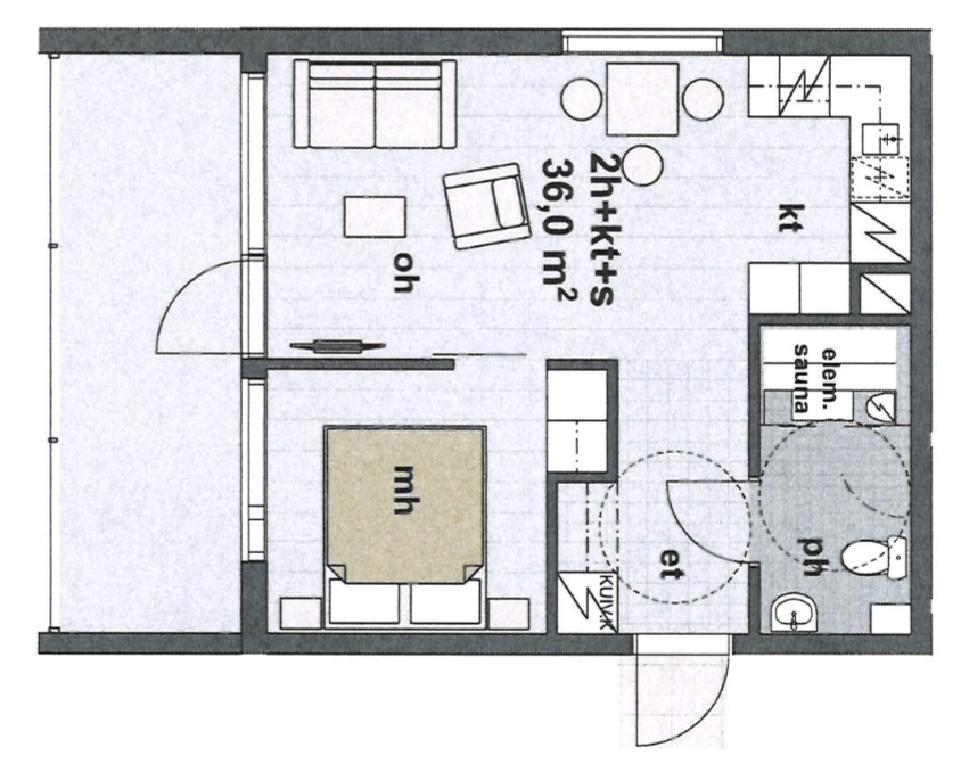door: (138, 260, 271, 357), (630, 623, 734, 744), (659, 478, 772, 565)
window: (239, 380, 267, 564), (245, 76, 271, 249), (550, 30, 732, 53)
zone: (263, 49, 917, 646), (45, 51, 244, 632), (267, 371, 542, 629), (757, 324, 913, 637)
